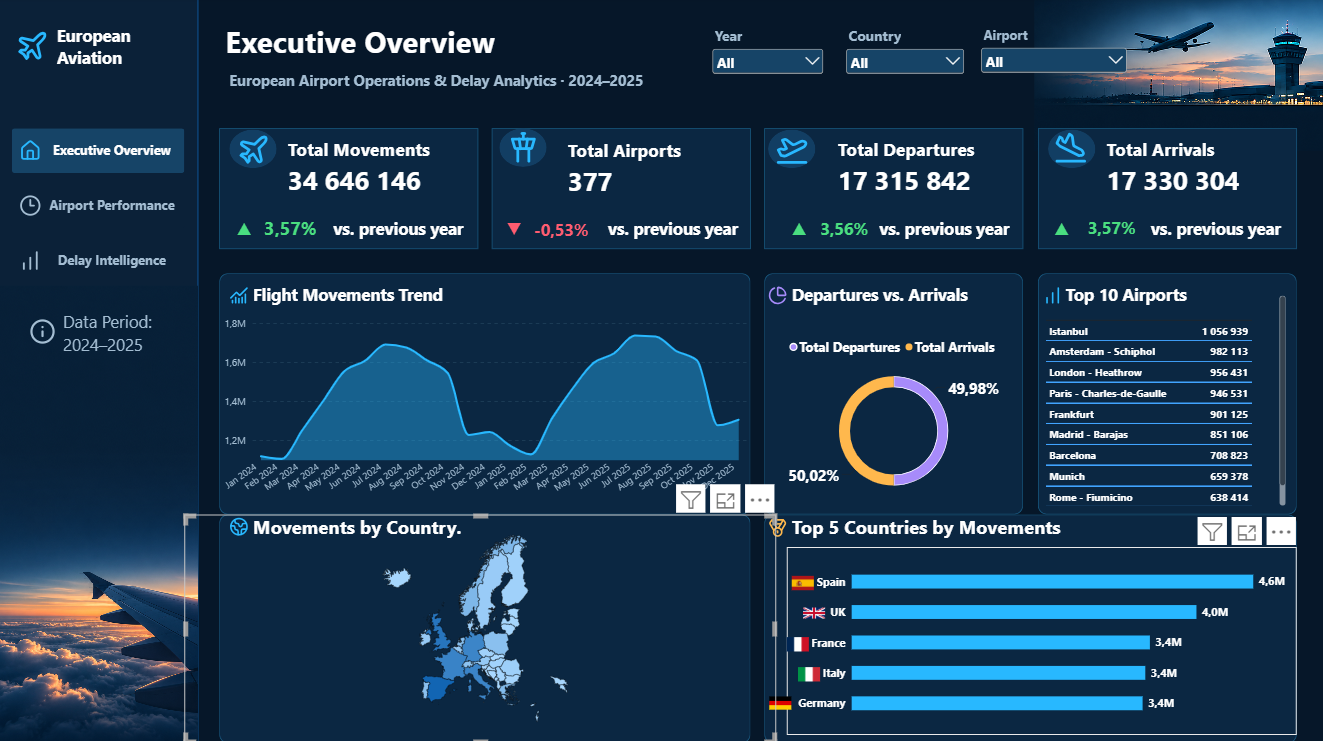

Layout of this report page (visuals, bound fields, positions):
{"tool":"powerbi","page":{"name":"Executive Overview.","canvas":[1920,1080],"ordinal":0},"visuals":[{"type":"image","box":[1500.2,0,419.8,222.6],"z":0},{"type":"shape","box":[0,0,290,1080],"z":1000},{"type":"textbox","box":[85,40,195,100],"z":2000},{"type":"image","box":[25,47,48,48],"z":3000},{"type":"actionButton","box":[20,190,250,65],"z":4000},{"type":"actionButton","box":[20,270,250,65],"z":5000},{"type":"actionButton","box":[20,350,250,65],"z":6000},{"type":"image","box":[30,206,32,32],"z":7000},{"type":"image","box":[30,286,32,32],"z":8000},{"type":"image","box":[30,366,32,32],"z":9000},{"type":"textbox","box":[330,35,700,75],"z":10000},{"type":"textbox","box":[335,105,780,45],"z":11000},{"type":"slicer","fields":{"Values":["Airport Operations.apt_name"]},"box":[1418.8,41.6,220,75],"z":12000},{"type":"slicer","fields":{"Values":["Airport Operations.state_name"]},"box":[1223.3,41.6,180,75],"z":13000},{"type":"slicer","fields":{"Values":["Airport Operations.year"]},"box":[1029.7,41.6,170,75],"z":14000},{"type":"shape","box":[320,190,375,175],"z":15000},{"type":"cardVisual","fields":{"Data":["Airport Operations.Total Movements"]},"box":[403.6,191.8,291.4,110.4],"z":16000},{"type":"shape","box":[1505,190,375,175],"z":17000},{"type":"shape","box":[1110,190,375,175],"z":18000},{"type":"shape","box":[715,190,375,175],"z":19000},{"type":"shape","box":[334.8,191.8,68.8,56.1],"z":20000},{"type":"image","box":[345.6,197.3,48,48],"z":21000},{"type":"cardVisual","fields":{"Data":["Airport Operations.Movements YoY Growth %"]},"box":[369.2,311.3,185,45],"z":22000},{"type":"textbox","box":[345.6,318,349.3,54.3],"z":23000},{"type":"cardVisual","fields":{"Data":["Airport Operations.Total Airports"]},"box":[808.9,193.6,240.7,110],"z":24000},{"type":"shape","box":[725.7,190,68.8,56.1],"z":25000},{"type":"image","box":[736.5,193.6,48,48],"z":26000},{"type":"cardVisual","fields":{"Data":["Airport Operations.Airports YoY Growth %"]},"box":[760.1,289.5,215.3,92.3],"z":27000},{"type":"textbox","box":[736.5,318.5,352.9,47.1],"z":28000},{"type":"cardVisual","fields":{"Data":["Airport Operations.Total Departures"]},"box":[1199.8,191.8,240,110],"z":29000},{"type":"shape","box":[1114.8,191.8,68.8,56.1],"z":30000},{"type":"image","box":[1125.6,195.4,48,48],"z":31000},{"type":"cardVisual","fields":{"Data":["Airport Operations.Departures YoY Growth %"]},"box":[1174.5,291.4,195.4,88.7],"z":32000},{"type":"textbox","box":[1149.1,318.5,334.8,47.1],"z":33000},{"type":"cardVisual","fields":{"Data":["Airport Operations.Total Arrivals"]},"box":[1588.9,191.8,240,110],"z":34000},{"type":"shape","box":[1520.1,191.8,68.8,56.1],"z":35000},{"type":"image","box":[1529.2,193.6,48,48],"z":36000},{"type":"cardVisual","fields":{"Data":["Airport Operations.Arrivals YoY Growth %"]},"box":[1561.7,304,155.6,59.7],"z":37000},{"type":"textbox","box":[1529.2,318.5,351.1,61.5],"z":38000},{"type":"shape","box":[320.3,399.9,769.1,349.3],"z":39000},{"type":"textbox","box":[369.2,414.4,499.5,59.7],"z":40000},{"type":"areaChart","fields":{"Category":["Airport Operations.Month Year EN"],"Y":["Airport Operations.Total Movements"]},"box":[307.6,447,792.6,302.2],"z":41000},{"type":"shape","box":[1109.3,399.9,374.6,349.3],"z":42000},{"type":"shape","box":[1505.6,399.9,374.6,349.3],"z":43000},{"type":"textbox","box":[1149.1,414.4,731.1,59.7],"z":44000},{"type":"donutChart","fields":{"Y":["Airport Operations.Total Departures","Airport Operations.Total Arrivals"]},"box":[1109.3,474.1,374.6,275.1],"z":45000},{"type":"textbox","box":[1545,414.4,367.4,59.7],"z":46000},{"type":"image","box":[1114.8,418,28,28],"z":47000},{"type":"image","box":[334.8,418,28,28],"z":48000},{"type":"tableEx","fields":{"Values":["Airport Operations.apt_name","Airport Operations.Total Movements"]},"box":[1500.2,418,380,334.8],"z":49000},{"type":"image","box":[1512.9,418,28,28],"z":50000},{"type":"shape","box":[320.3,749.2,769.1,331.2],"z":51000},{"type":"shapeMap","fields":{"Category":["Airport Operations.state_name"],"Value":["Airport Operations.Total Movements"]},"box":[269.6,749.2,856,331.2],"z":52000},{"type":"textbox","box":[369.2,749.2,499.5,331.2],"z":53000},{"type":"image","box":[334.8,752.8,28,28],"z":54000},{"type":"shape","box":[1109.3,749.2,770.9,331.2],"z":55000},{"type":"textbox","box":[1149.1,749.2,731.1,316.7],"z":56000},{"type":"clusteredBarChart","fields":{"Category":["Airport Operations.Country Display"],"Y":["Airport Operations.Total Movements"]},"box":[1141.9,796.3,738.3,271.4],"z":57000},{"type":"image","box":[1149.1,832.4,32,32],"z":58000},{"type":"image","box":[1141.9,921,32,32],"z":59000},{"type":"image","box":[1116.6,1006,32,32],"z":60000},{"type":"image","box":[1165.4,875.9,32,32],"z":61000},{"type":"image","box":[1158.2,964.5,32,32],"z":62000},{"type":"image","box":[1114.8,754.6,28,28],"z":63000},{"type":"image","box":[0,418,289.5,662.3],"z":64000},{"type":"textbox","box":[95,455,175,75],"z":65000},{"type":"image","box":[45,465,38,38],"z":66000}]}

Visuals, with their boxes in screenshot pixels (x1, y1, x2, y2), scaled from the page's 1920x1080 canvas onto the 1323x741 screenshot:
image: bbox=[1034, 0, 1322, 153]
shape: bbox=[0, 0, 200, 740]
textbox: bbox=[59, 27, 193, 96]
image: bbox=[17, 32, 50, 65]
actionButton: bbox=[14, 130, 186, 175]
actionButton: bbox=[14, 185, 186, 230]
actionButton: bbox=[14, 240, 186, 285]
image: bbox=[21, 141, 43, 163]
image: bbox=[21, 196, 43, 218]
image: bbox=[21, 251, 43, 273]
textbox: bbox=[227, 24, 710, 75]
textbox: bbox=[231, 72, 768, 103]
slicer - Airport Operations.apt_name: bbox=[978, 29, 1129, 80]
slicer - Airport Operations.state_name: bbox=[843, 29, 967, 80]
slicer - Airport Operations.year: bbox=[710, 29, 827, 80]
shape: bbox=[220, 130, 479, 250]
cardVisual - Airport Operations.Total Movements: bbox=[278, 132, 479, 207]
shape: bbox=[1037, 130, 1295, 250]
shape: bbox=[765, 130, 1023, 250]
shape: bbox=[493, 130, 751, 250]
shape: bbox=[231, 132, 278, 170]
image: bbox=[238, 135, 271, 168]
cardVisual - Airport Operations.Movements YoY Growth %: bbox=[254, 214, 382, 244]
textbox: bbox=[238, 218, 479, 255]
cardVisual - Airport Operations.Total Airports: bbox=[557, 133, 723, 208]
shape: bbox=[500, 130, 547, 169]
image: bbox=[507, 133, 541, 166]
cardVisual - Airport Operations.Airports YoY Growth %: bbox=[524, 199, 672, 262]
textbox: bbox=[507, 219, 751, 251]
cardVisual - Airport Operations.Total Departures: bbox=[827, 132, 992, 207]
shape: bbox=[768, 132, 816, 170]
image: bbox=[776, 134, 809, 167]
cardVisual - Airport Operations.Departures YoY Growth %: bbox=[809, 200, 944, 261]
textbox: bbox=[792, 219, 1022, 251]
cardVisual - Airport Operations.Total Arrivals: bbox=[1095, 132, 1260, 207]
shape: bbox=[1047, 132, 1095, 170]
image: bbox=[1054, 133, 1087, 166]
cardVisual - Airport Operations.Arrivals YoY Growth %: bbox=[1076, 209, 1183, 250]
textbox: bbox=[1054, 219, 1296, 261]
shape: bbox=[221, 274, 751, 514]
textbox: bbox=[254, 284, 599, 325]
areaChart - Airport Operations.Month Year EN x Airport Operations.Total Movements: bbox=[212, 307, 758, 514]
shape: bbox=[764, 274, 1022, 514]
shape: bbox=[1037, 274, 1296, 514]
textbox: bbox=[792, 284, 1296, 325]
donutChart - Airport Operations.Total Departures x Airport Operations.Total Arrivals: bbox=[764, 325, 1022, 514]
textbox: bbox=[1065, 284, 1318, 325]
image: bbox=[768, 287, 787, 306]
image: bbox=[231, 287, 250, 306]
tableEx - Airport Operations.apt_name x Airport Operations.Total Movements: bbox=[1034, 287, 1296, 517]
image: bbox=[1042, 287, 1062, 306]
shape: bbox=[221, 514, 751, 740]
shapeMap - Airport Operations.state_name x Airport Operations.Total Movements: bbox=[186, 514, 776, 740]
textbox: bbox=[254, 514, 599, 740]
image: bbox=[231, 517, 250, 536]
shape: bbox=[764, 514, 1296, 740]
textbox: bbox=[792, 514, 1296, 731]
clusteredBarChart - Airport Operations.Country Display x Airport Operations.Total Movements: bbox=[787, 546, 1296, 733]
image: bbox=[792, 571, 814, 593]
image: bbox=[787, 632, 809, 654]
image: bbox=[769, 690, 791, 712]
image: bbox=[803, 601, 825, 623]
image: bbox=[798, 662, 820, 684]
image: bbox=[768, 518, 787, 537]
image: bbox=[0, 287, 199, 740]
textbox: bbox=[65, 312, 186, 364]
image: bbox=[31, 319, 57, 345]
